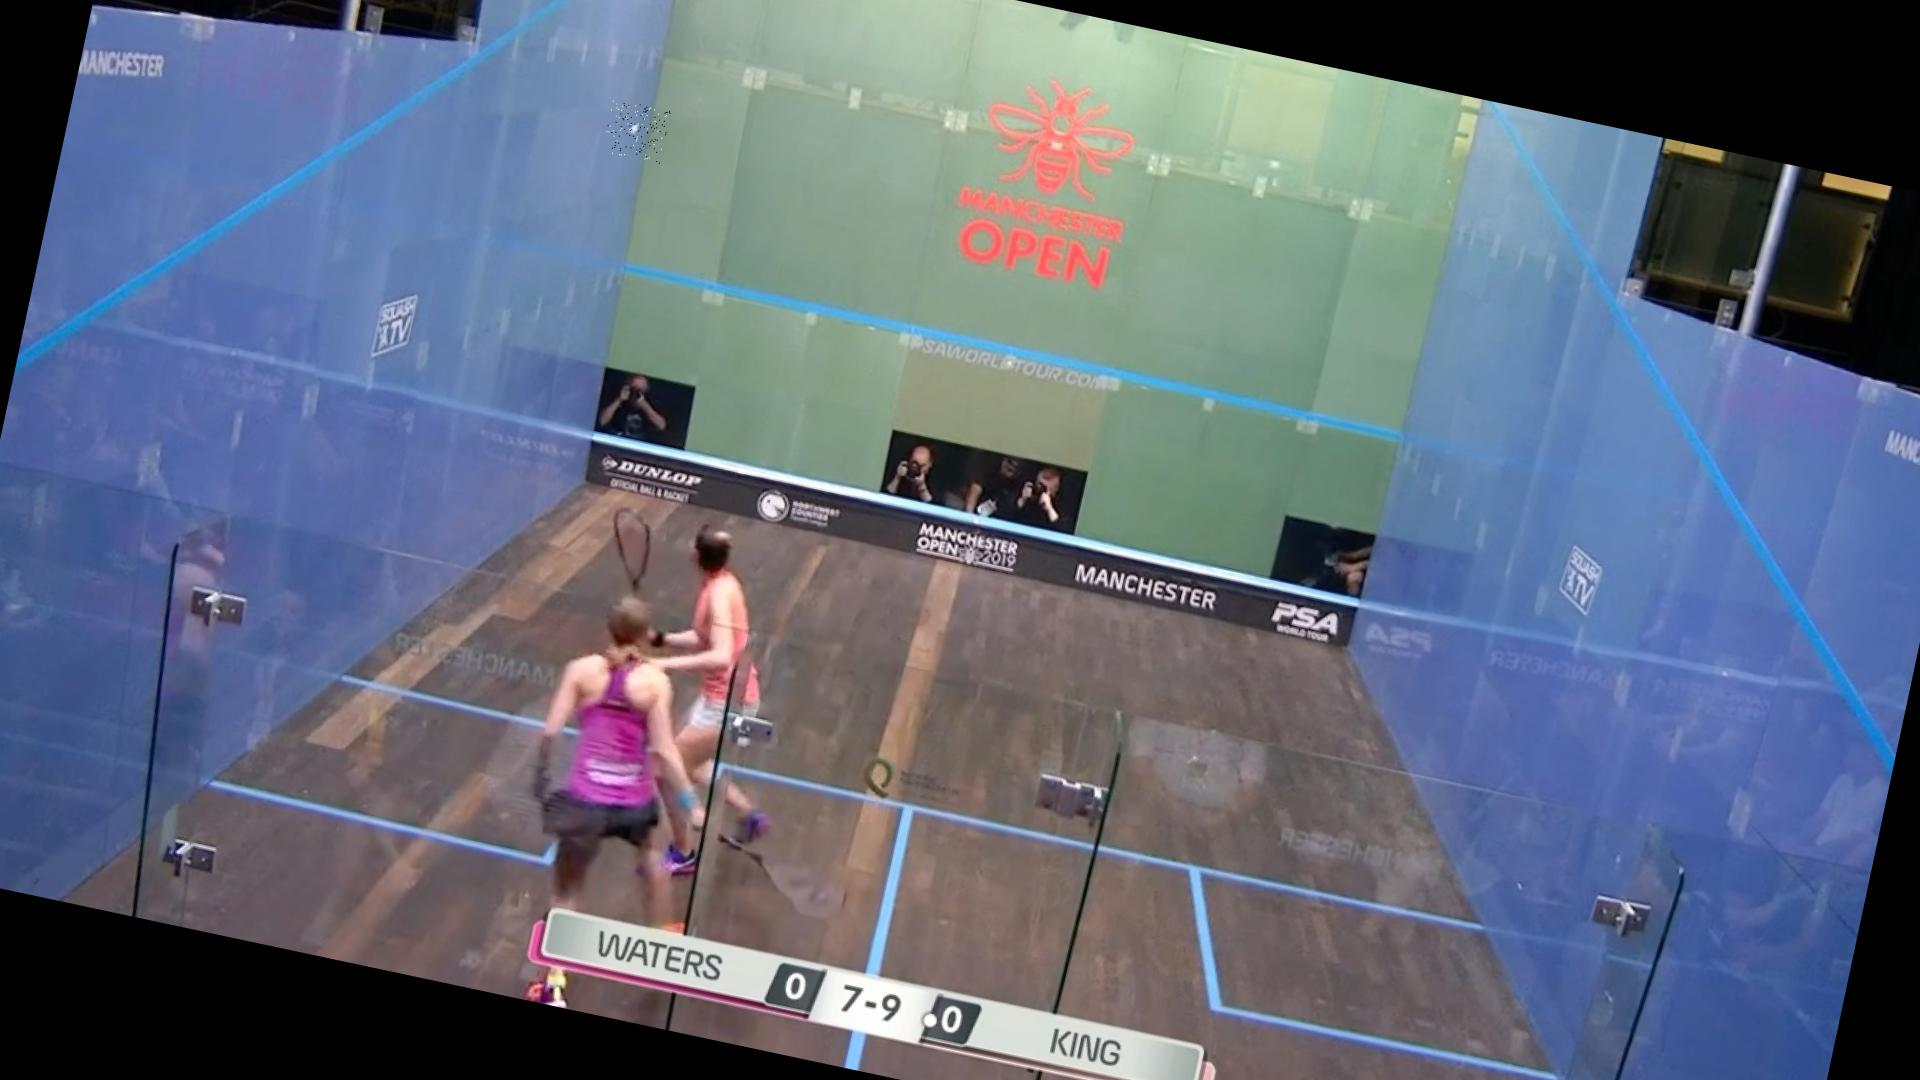Squash-Ball: (601, 98, 673, 164)
